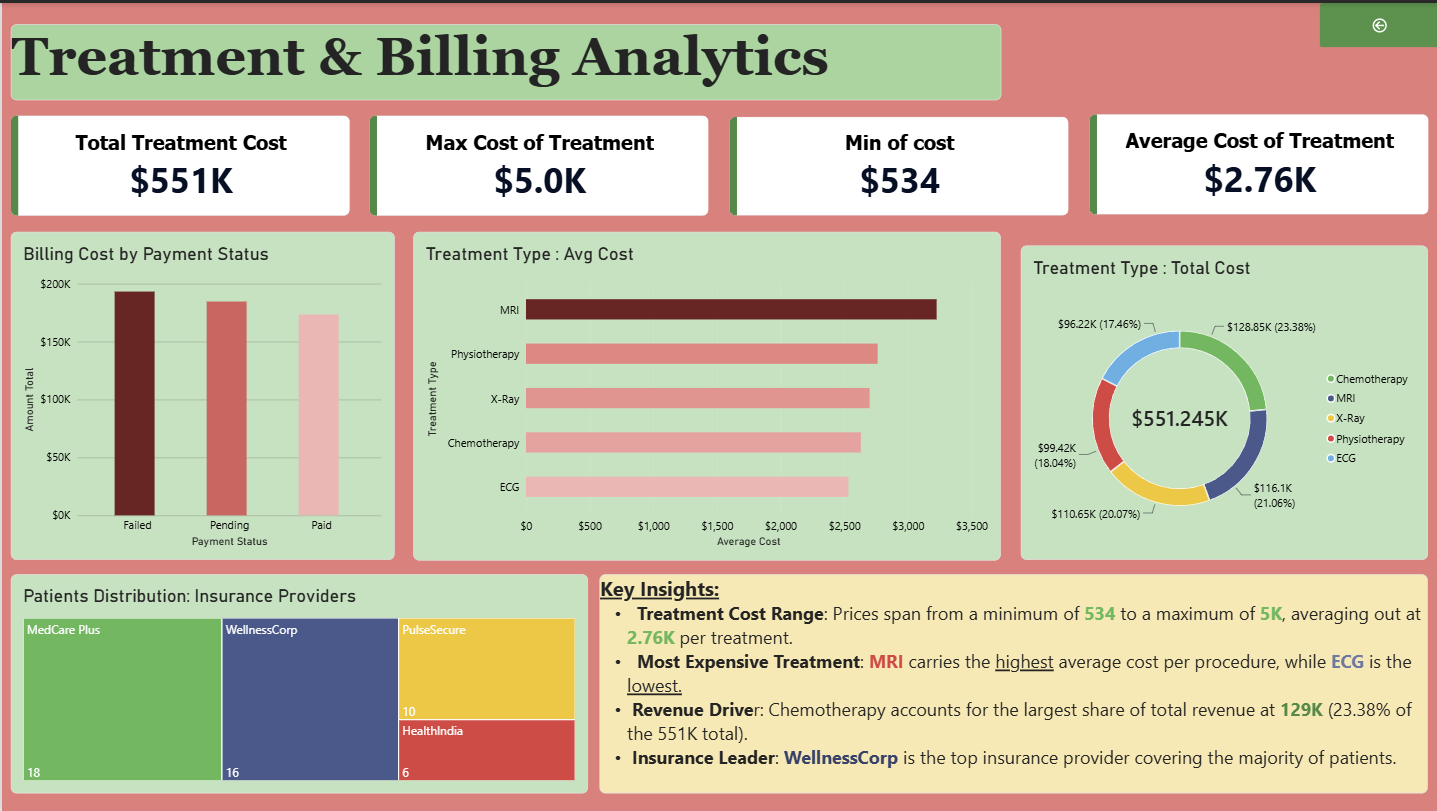

What the dashboard file says about the page in this screenshot:
{"tool":"powerbi","page":{"name":"Treatment & Bill","canvas":[1920,1080],"ordinal":2},"visuals":[{"type":"textbox","box":[11.1,27.8,1322.8,101.8],"z":0},{"type":"cardVisual","fields":{"Data":["Sum(hospital_management treatments.cost)"]},"box":[11.1,150.3,453.2,134.7],"z":0,"group":"g1"},{"type":"group","id":"g1","title":"Group 1","box":[11.1,148,1894.5,136.9],"z":1000},{"type":"cardVisual","fields":{"Data":["Avg(hospital_management treatments.cost)"]},"box":[1452.4,148,453.2,134.7],"z":1000,"group":"g1"},{"type":"cardVisual","fields":{"Data":["Min(hospital_management treatments.cost)"]},"box":[971.1,151.2,453.3,132.6],"z":2000,"group":"g1"},{"type":"donutChart","title":"Treatment Type : Total Cost ","fields":{"Category":["hospital_management treatments.treatment_type"],"Y":["Sum(hospital_management treatments.cost)"]},"box":[1361.7,323.8,543.9,420],"z":2000},{"type":"cardVisual","fields":{"Data":["Max(hospital_management treatments.cost)"]},"box":[489.6,149.5,453.2,134.7],"z":3000,"group":"g1"},{"type":"clusteredBarChart","title":"Treatment Type : Avg Cost","fields":{"Category":["hospital_management treatments.treatment_type"],"Y":["Avg(hospital_management treatments.cost)"]},"box":[548.8,305.1,785.1,439.1],"z":3000},{"type":"clusteredColumnChart","title":"Billing Cost by Payment Status","fields":{"Category":["hospital_management billing.payment_status"],"Y":["Sum(hospital_management billing.amount)"]},"box":[11,305.5,512.5,438.5],"z":4000},{"type":"treemap","title":"Patients Distribution: Insurance Providers","fields":{"Group":["hospital_management patients.insurance_provider"],"Values":["CountNonNull(hospital_management patients.patient_id)"]},"box":[11,763.8,771.2,292.6],"z":5000},{"type":"textbox","box":[798.8,763.8,1106.1,292.6],"z":6000},{"type":"actionButton","box":[1760,0,160,59.5],"z":6001}]}

Visuals, with their boxes in screenshot pixels (x1, y1, x2, y2), scaled from the page's 1920x1080 canvas onto the 1437x811 screenshot:
textbox: {"x1": 8, "y1": 21, "x2": 998, "y2": 97}
cardVisual - Sum(hospital_management treatments.cost): {"x1": 8, "y1": 113, "x2": 347, "y2": 214}
"Group 1" group: {"x1": 8, "y1": 111, "x2": 1426, "y2": 214}
cardVisual - Avg(hospital_management treatments.cost): {"x1": 1087, "y1": 111, "x2": 1426, "y2": 212}
cardVisual - Min(hospital_management treatments.cost): {"x1": 727, "y1": 114, "x2": 1066, "y2": 213}
"Treatment Type : Total Cost " donutChart: {"x1": 1019, "y1": 243, "x2": 1426, "y2": 559}
cardVisual - Max(hospital_management treatments.cost): {"x1": 366, "y1": 112, "x2": 706, "y2": 213}
"Treatment Type : Avg Cost" clusteredBarChart: {"x1": 411, "y1": 229, "x2": 998, "y2": 559}
"Billing Cost by Payment Status" clusteredColumnChart: {"x1": 8, "y1": 229, "x2": 392, "y2": 559}
"Patients Distribution: Insurance Providers" treemap: {"x1": 8, "y1": 574, "x2": 585, "y2": 793}
textbox: {"x1": 598, "y1": 574, "x2": 1426, "y2": 793}
actionButton: {"x1": 1317, "y1": 0, "x2": 1436, "y2": 45}
